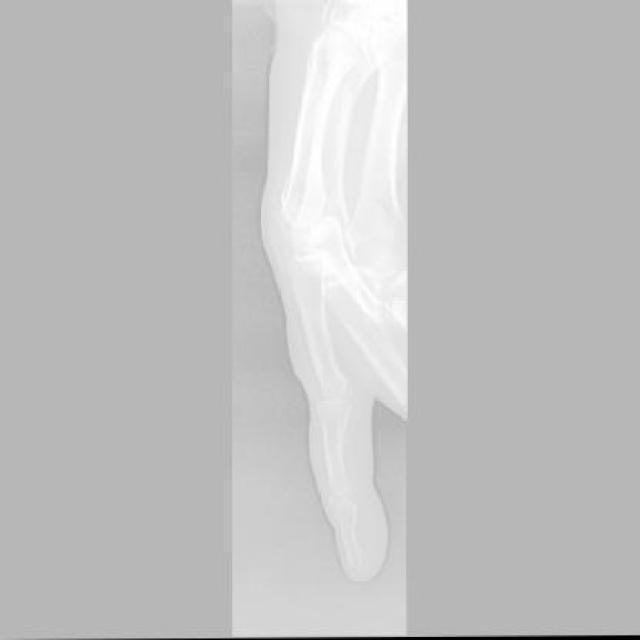Fracture: (326, 494, 360, 521)
